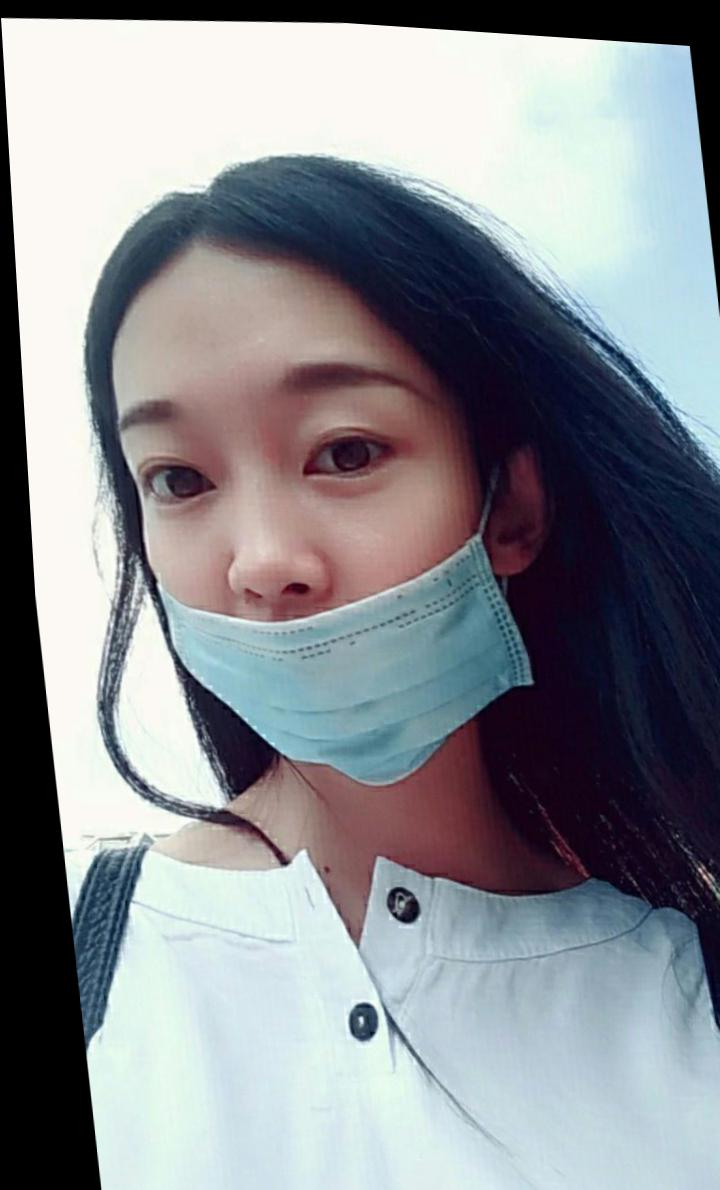WRONG: (107, 322, 525, 792)
